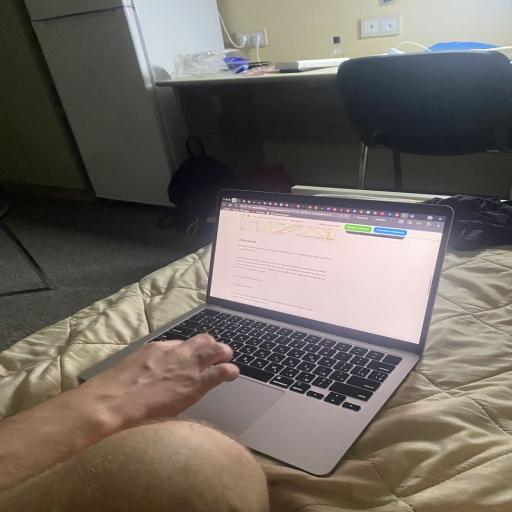bottle: (337, 50, 512, 196)
corridor: (81, 190, 453, 475)
door: (161, 138, 235, 236)
person: (0, 247, 512, 512)
phone: (159, 36, 511, 197)
